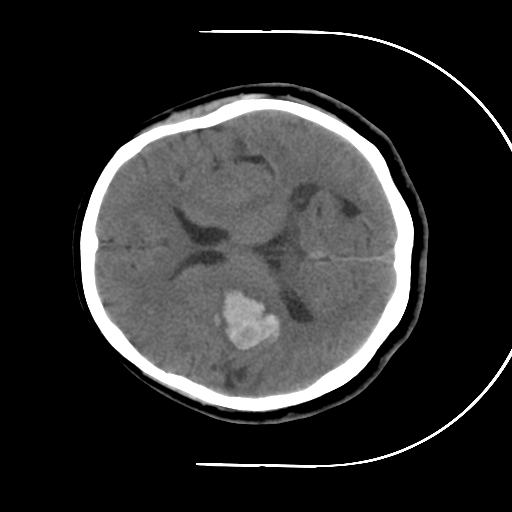a: (198, 273, 292, 365)
